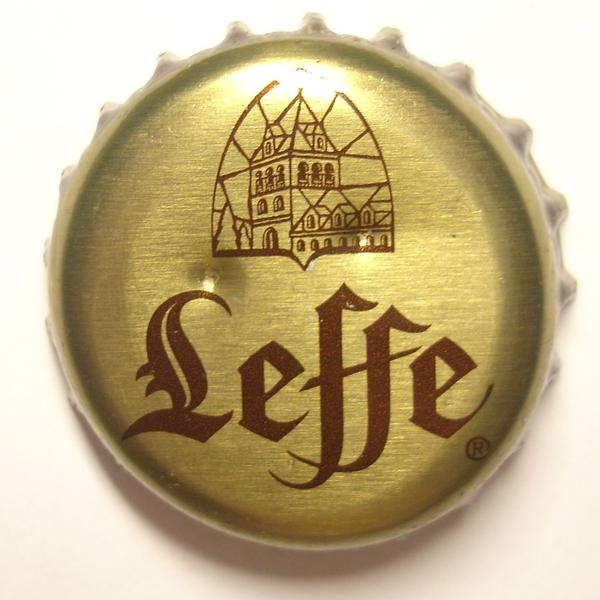leffe: (34, 3, 600, 577)
